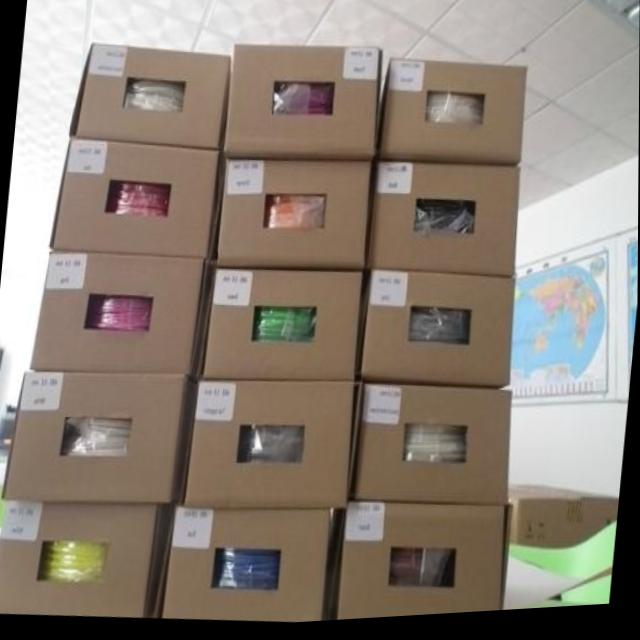box: (3, 371, 198, 506), (31, 253, 216, 383), (184, 383, 362, 512), (323, 506, 514, 625), (49, 137, 226, 263), (0, 500, 176, 618), (349, 387, 512, 510), (165, 507, 333, 625), (355, 275, 516, 395), (365, 165, 521, 283), (224, 48, 383, 163), (68, 43, 231, 154), (203, 271, 362, 384), (216, 161, 373, 275), (372, 64, 526, 172), (503, 491, 619, 616)
